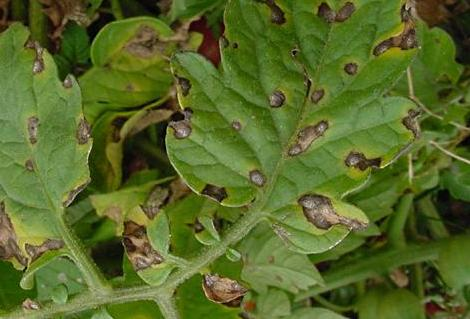Tomato Septoria leaf spot: (166, 0, 434, 269), (0, 16, 99, 290)
